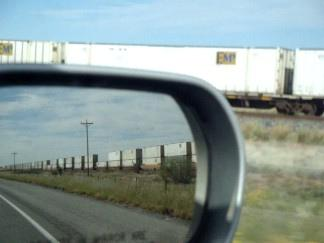Train: (2, 43, 324, 117)
